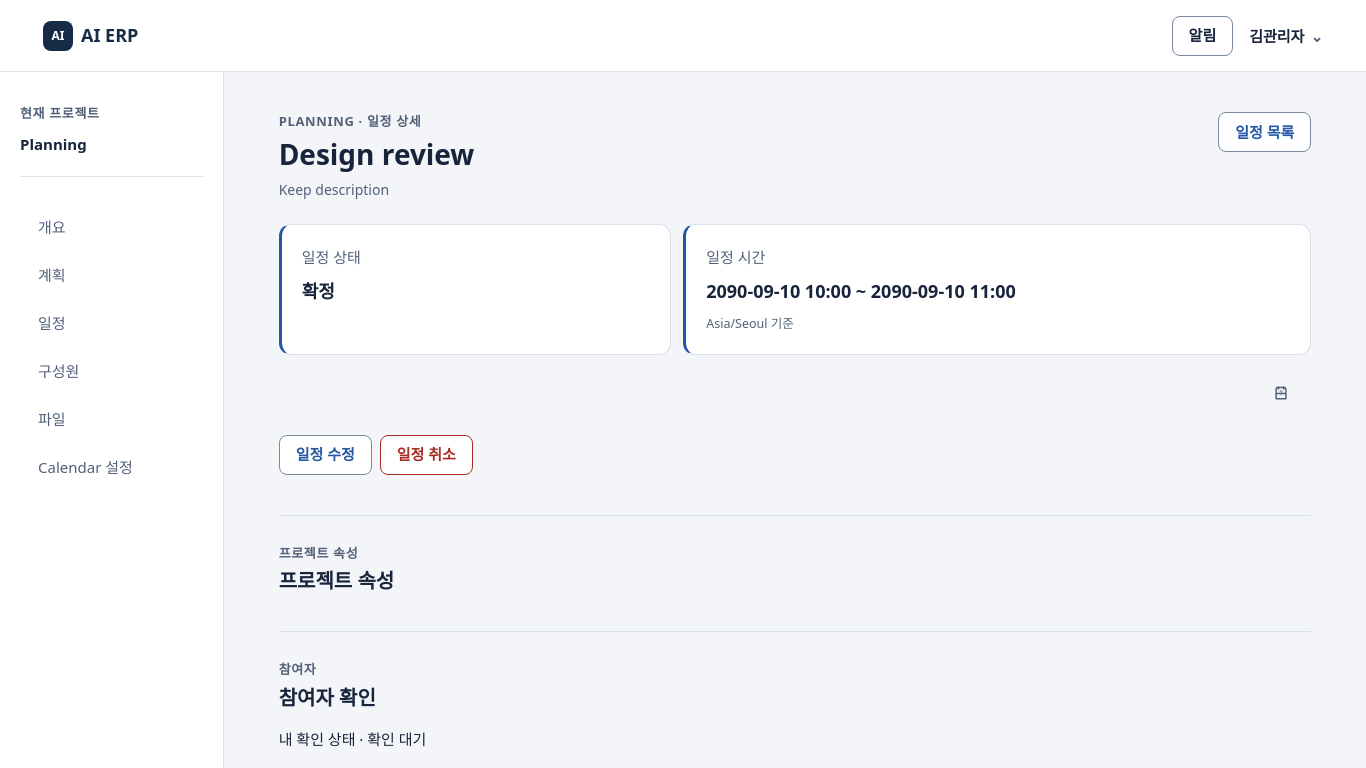
it: Calendar unknown response has a distinct compact state and disclosure text
The image size is (1366, 768).
Click the button named "Calendar: 상태 확인 필요".
click(1281, 393)  # box [1259,371,1303,415]
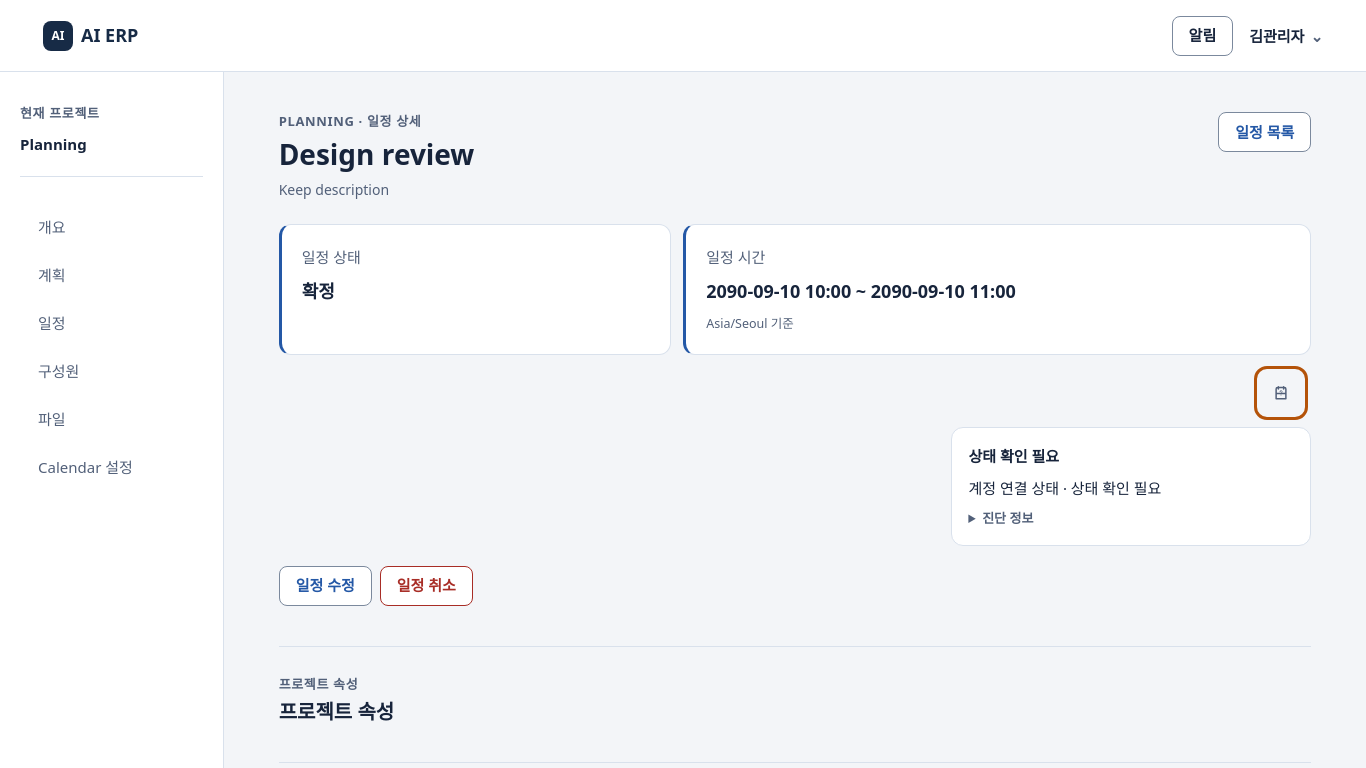
Now the text "상태 확인 필요" is shown, box [968,446,1059,466]
